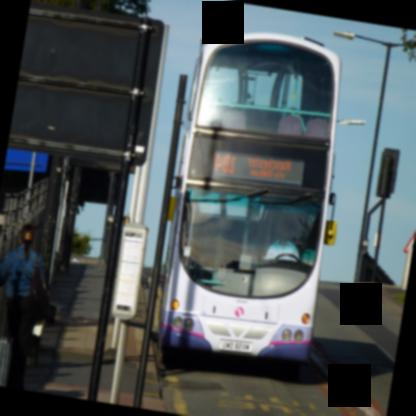backpack: (29, 251, 48, 316)
handbag: (28, 254, 48, 322)
